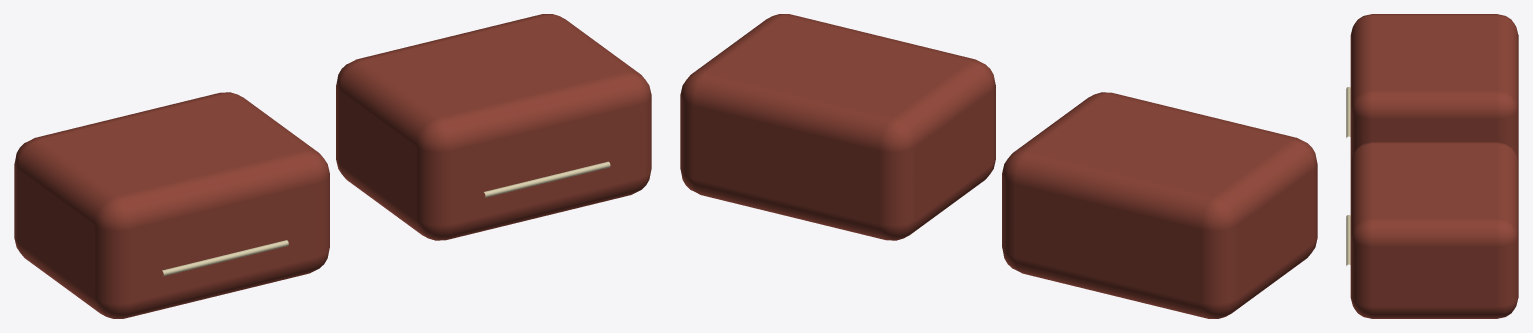
File: bookbinding-and-paper-mill-conservation-weights-d7d147aa__30588.glb
The picture shows the model from 3 angles, left to right: view 1: azimuth 30°, elevation 25°; view 2: azimuth 150°, elevation 25°; view 3: azimuth 270°, elevation 25°; orthographic projection. The views are drawn at different scales.
Parts seen in each view (by area): view 1: conservation-weights; view 2: conservation-weights; view 3: conservation-weights.
Boxes of the visible parts, x1,y1,x2,y2 form: conservation-weights: (14, 14, 651, 318); conservation-weights: (680, 14, 1317, 318); conservation-weights: (1346, 14, 1518, 318).
Bounding box in the file's own units: 0.31 × 0.065 × 0.1025.
